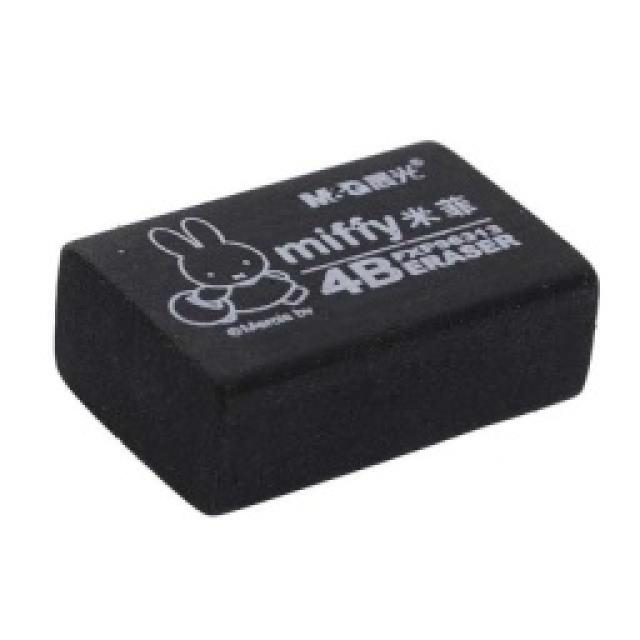Silgi: (55, 137, 601, 518)
